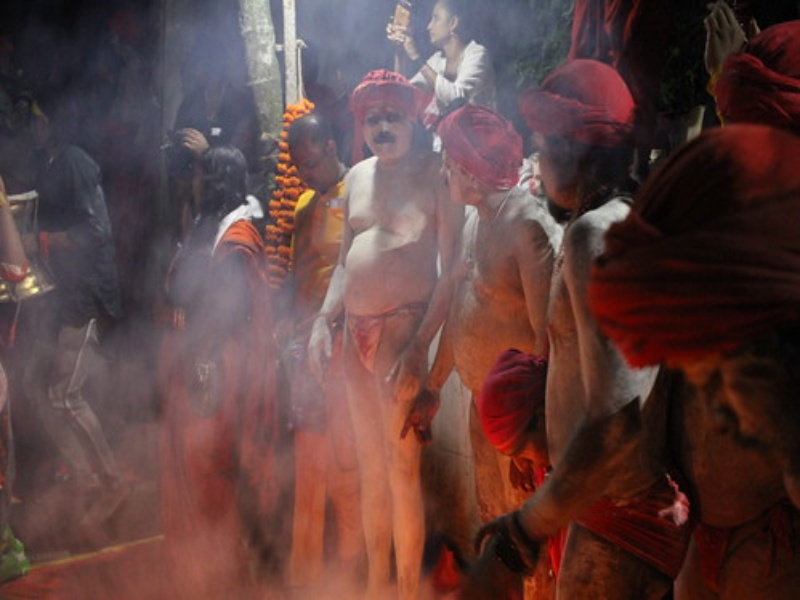smoke: (56, 40, 230, 373)
